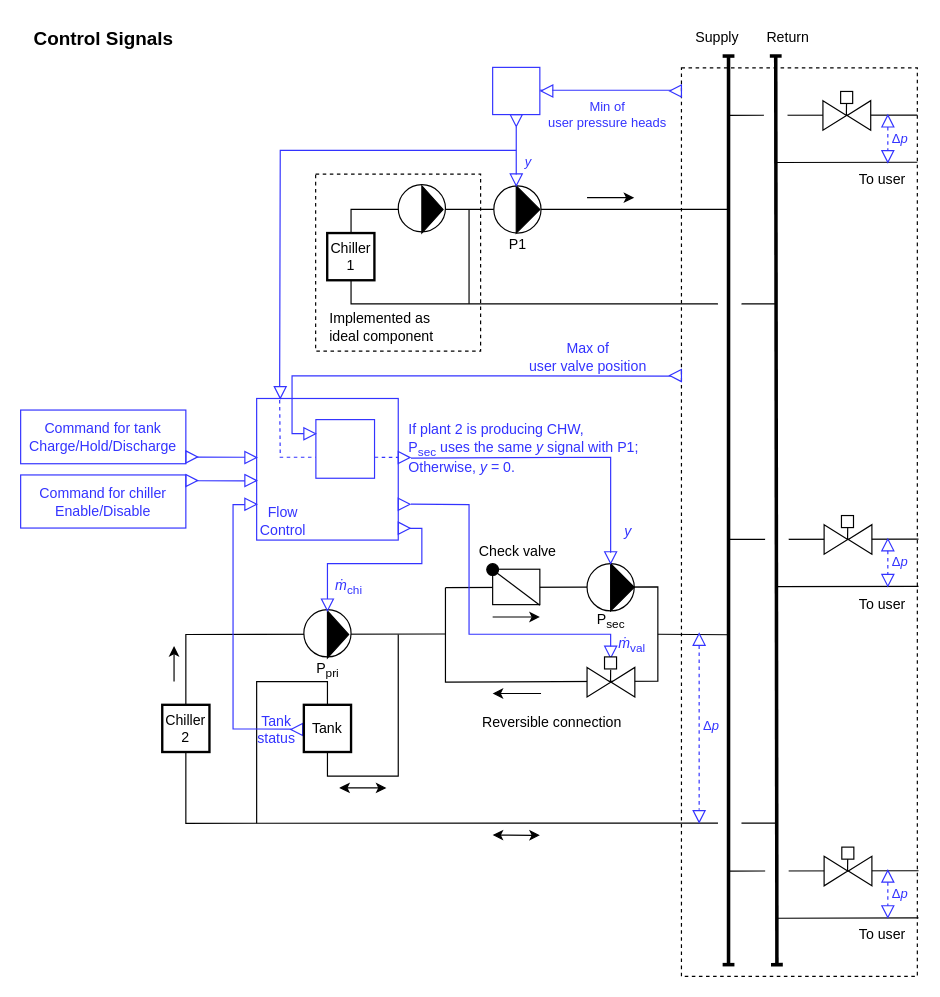
Some shapes in this 940 by 997 pixel diagram are drawn without their labels. Here are the shapes that lost their labels. From the top down, the centre of each, then its label:
(x=515, y=90): PI
(x=345, y=448): Switch
